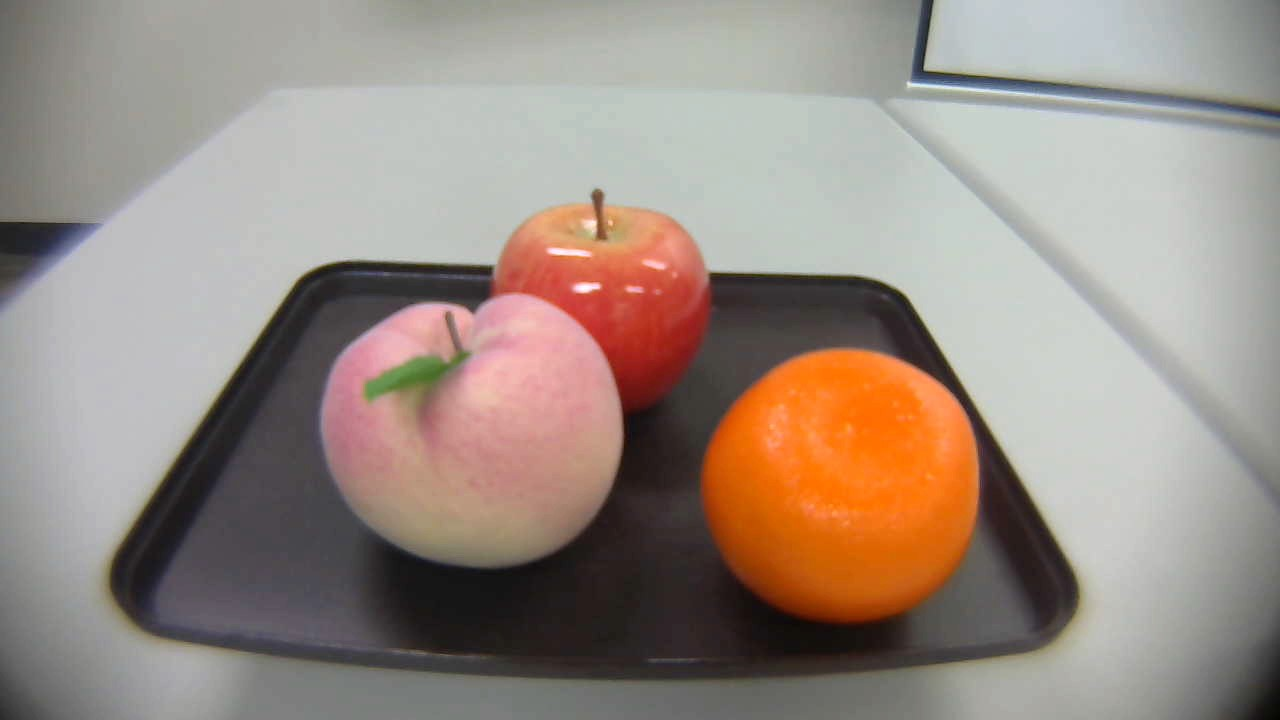orange: (701, 345, 978, 629)
peach: (305, 288, 626, 566)
red apple: (493, 193, 718, 419)
